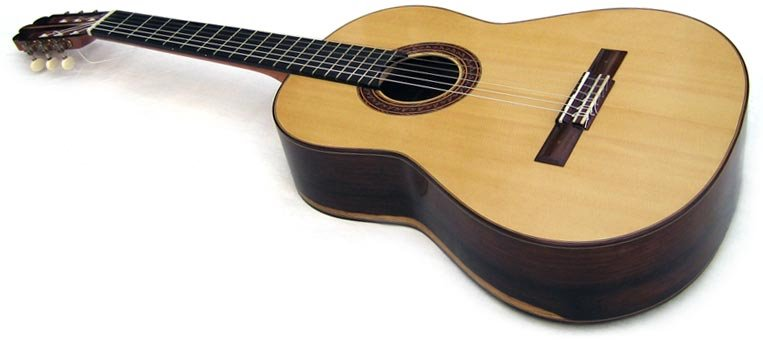guitar: (12, 1, 748, 328)
